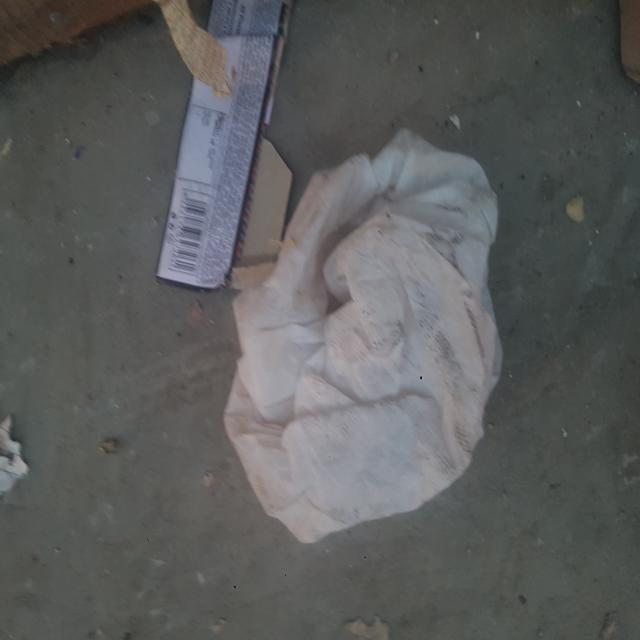electronic: (154, 0, 285, 291)
general: (222, 127, 504, 544)
